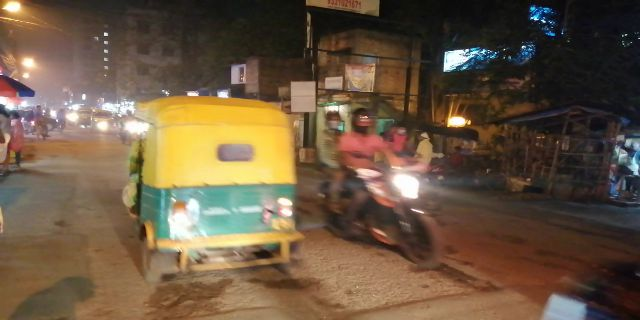Autorickshaw: (136, 94, 308, 279)
Motorbike: (320, 109, 448, 261)
